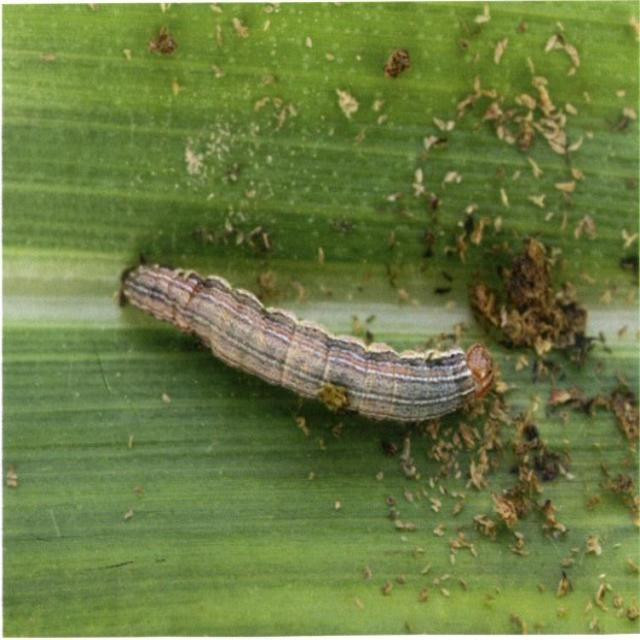army worm: (115, 258, 497, 427)
